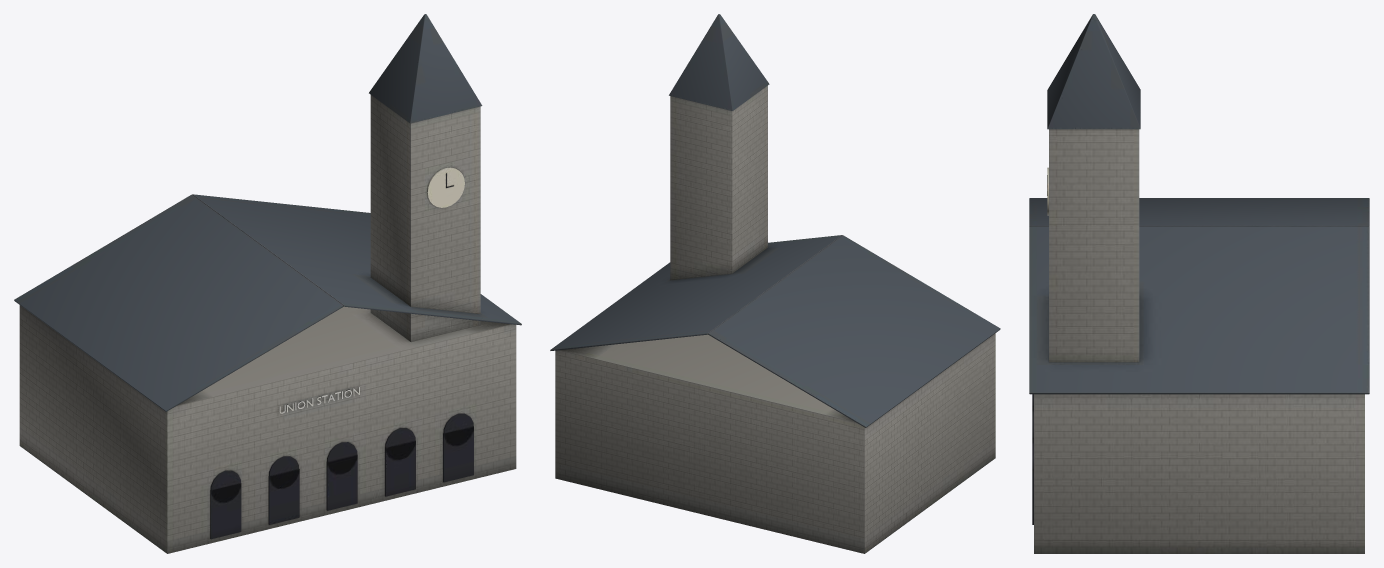
File: union_station_stl.glb
3 views of the same model, side by side, from view 1: azimuth 30°, elevation 25°; view 2: azimuth 150°, elevation 25°; view 3: azimuth 270°, elevation 25° (orthographic). The views are drawn at different scales.
Visible parts, largest first — view 1: union_station_stl; view 2: union_station_stl; view 3: union_station_stl.
Part boxes in pixels (box(x1,y1,x2,y2)): union_station_stl: box(14, 14, 521, 553); union_station_stl: box(550, 14, 1000, 553); union_station_stl: box(1029, 14, 1369, 553).
Size of the model in its own units: 30.62 by 37 by 22.6.
Materials: 1 (1 with a texture image).
